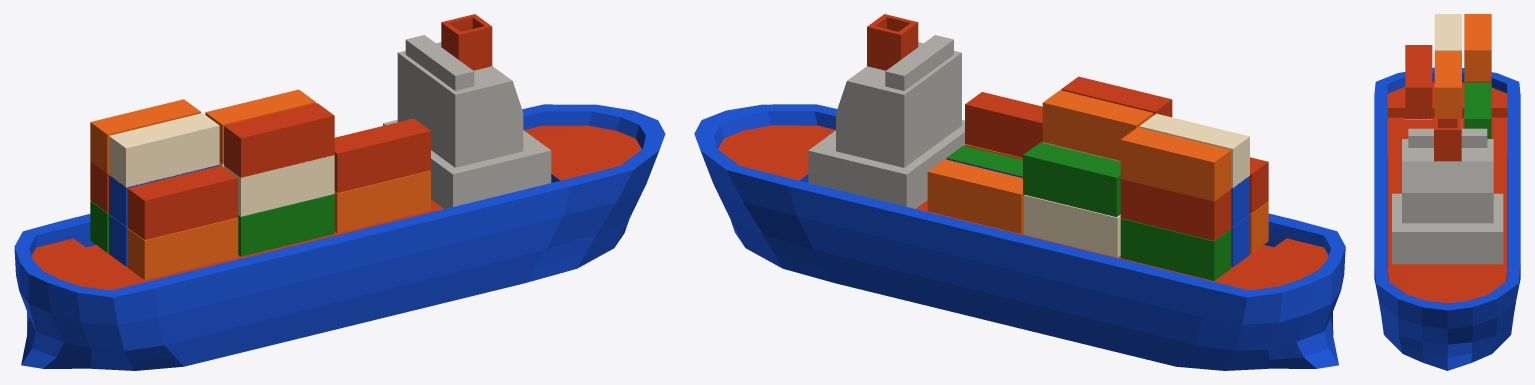
The model's file is navio.fbx.
3 views of the same model, side by side, from view 1: azimuth 30°, elevation 25°; view 2: azimuth 150°, elevation 25°; view 3: azimuth 270°, elevation 25° (orthographic). The views are drawn at different scales.
Visible parts, largest first — view 1: Cube.051; view 2: Cube.051; view 3: Cube.051.
Boxes of the visible parts, <box> form: Cube.051: <box>14,14,665,370</box>; Cube.051: <box>694,14,1345,370</box>; Cube.051: <box>1374,14,1520,370</box>.
Size of the model in its own units: 3603 by 1254 by 904.
